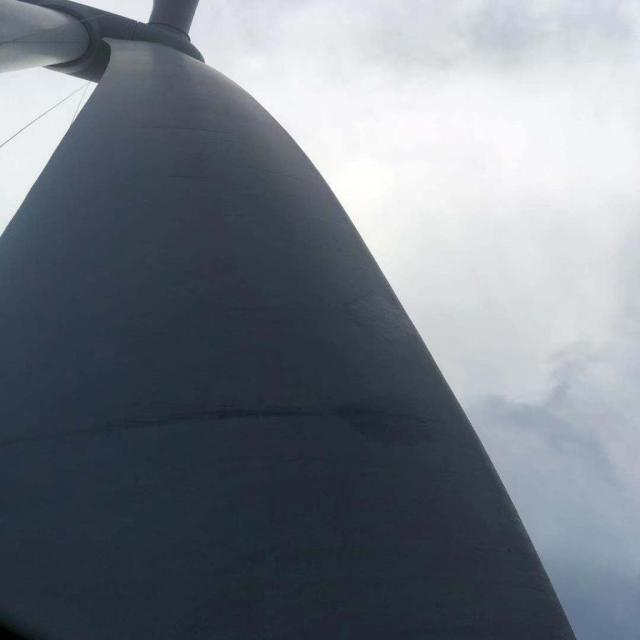crack: (35, 404, 396, 439)
